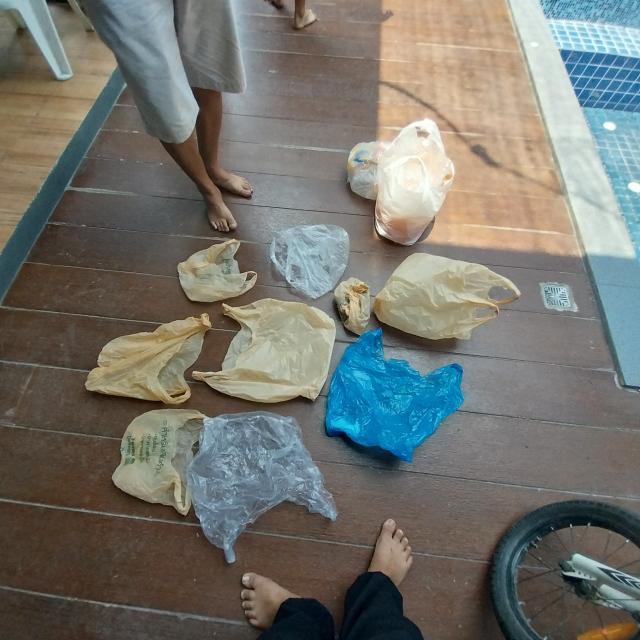Single-layer Plastic: (187, 413, 341, 562), (325, 327, 465, 458), (192, 300, 335, 402), (374, 251, 523, 341), (81, 312, 211, 403), (374, 115, 456, 242), (111, 408, 204, 519), (178, 235, 260, 306), (269, 224, 346, 294), (349, 140, 396, 198), (333, 278, 372, 338)
